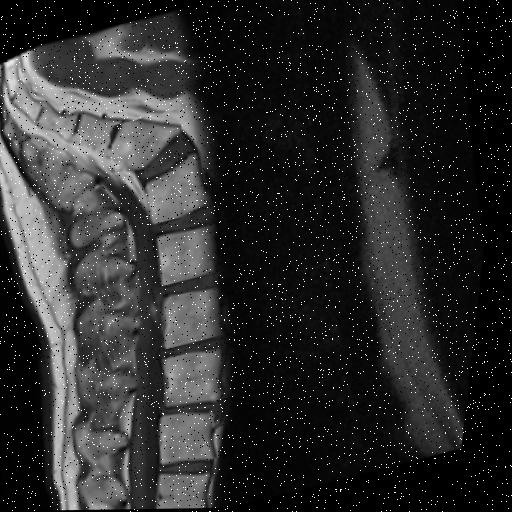L1: (168, 413, 222, 463)
L2: (171, 351, 228, 406)
L3: (170, 290, 224, 347)
L4: (162, 226, 219, 285)
L5: (150, 156, 211, 224)
S1: (113, 119, 184, 170)
